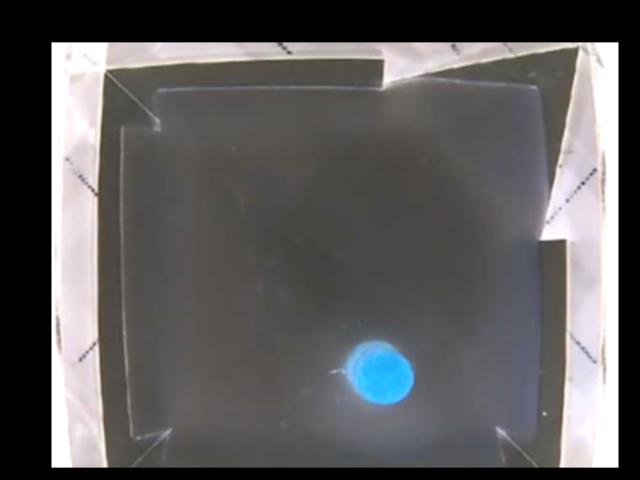Carrot: (347, 340, 412, 405)
